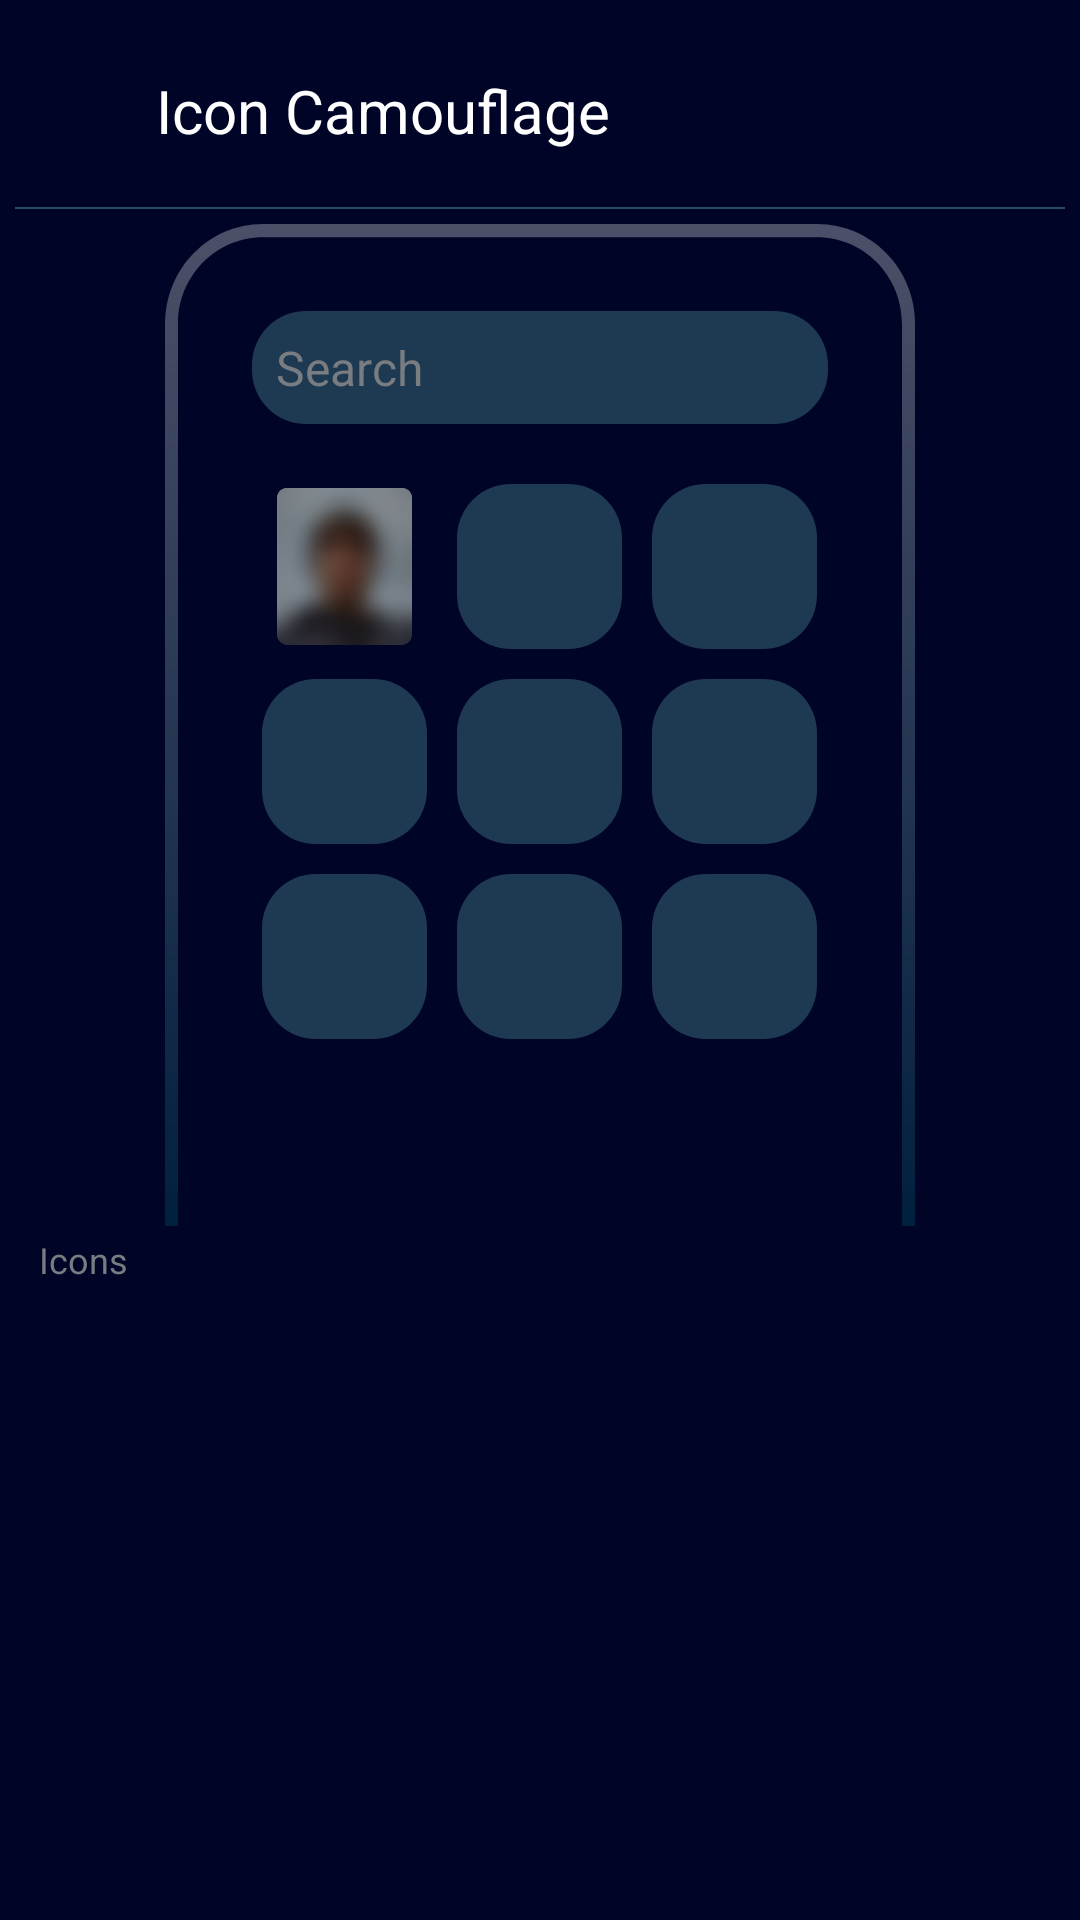

Icons on this 1080px x 1920px Android screen, each with the point to tap as (x=x, y=y):
blurbg: (x=344, y=566)
